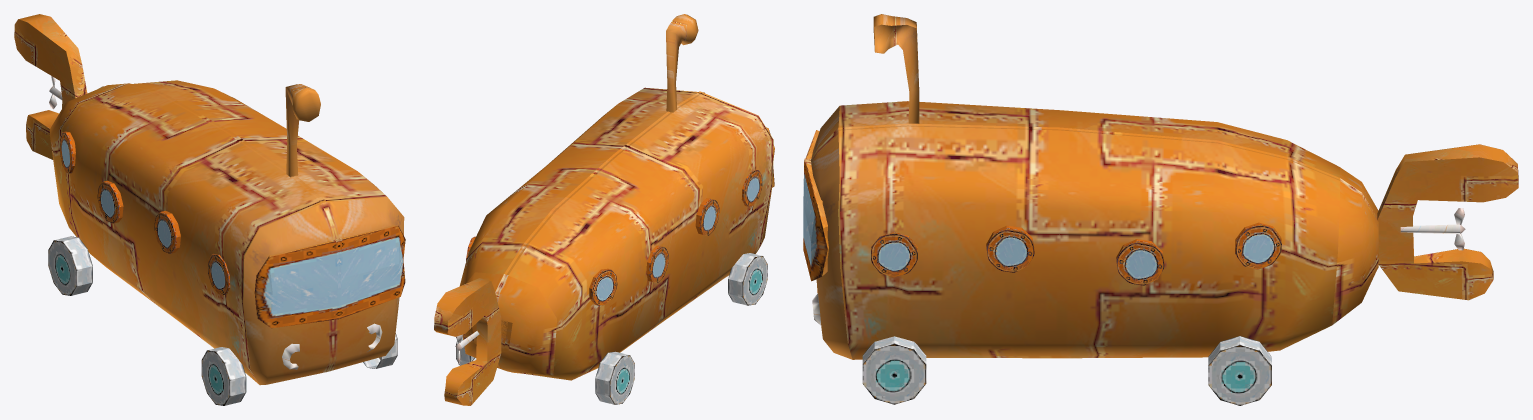
Rendered from bus_bind.obj.
The picture shows the model from 3 angles, left to right: view 1: azimuth 30°, elevation 25°; view 2: azimuth 150°, elevation 25°; view 3: azimuth 270°, elevation 25°; orthographic projection. The views are drawn at different scales.
Visible parts, largest first — view 1: 3D_Object_1; view 2: 3D_Object_1; view 3: 3D_Object_1.
Boxes of the visible parts, x1=… form: 3D_Object_1: x1=14, y1=14, x2=405, y2=405; 3D_Object_1: x1=434, y1=14, x2=774, y2=405; 3D_Object_1: x1=803, y1=14, x2=1518, y2=405.
Bounding box in the file's own units: 2.36 × 3.93 × 7.42.
